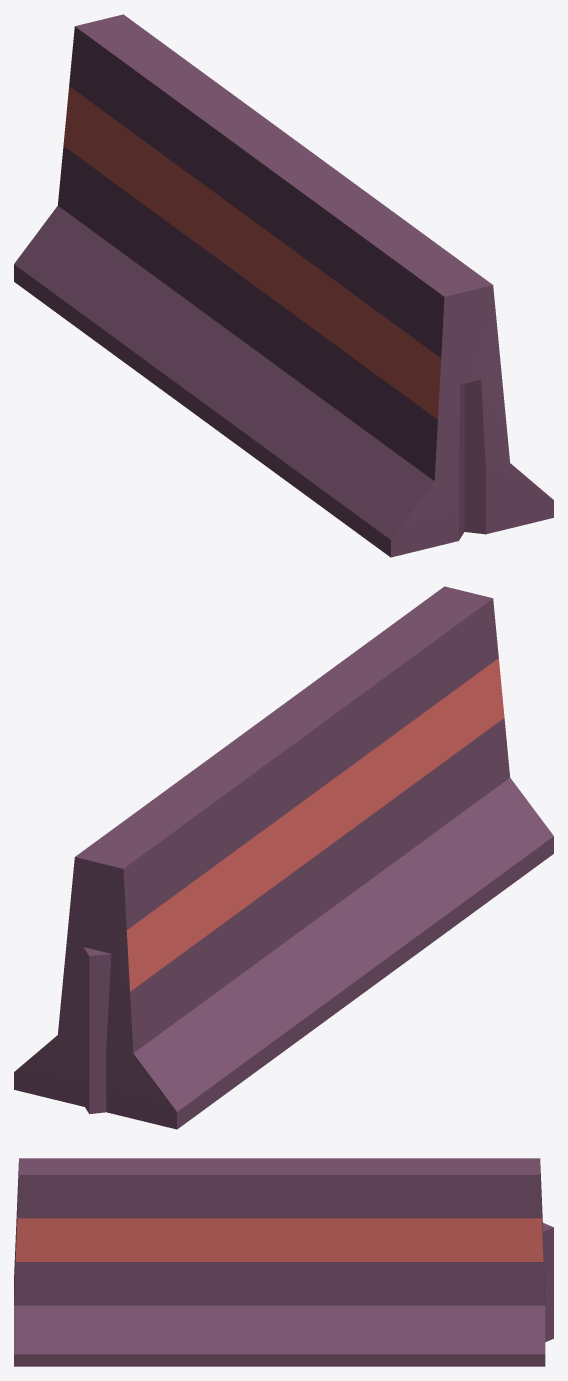
The model's file is Barrier.fbx.
3 views of the same model, one above another, from view 1: azimuth 30°, elevation 25°; view 2: azimuth 150°, elevation 25°; view 3: azimuth 270°, elevation 25° (orthographic). The views are drawn at different scales.
Parts seen in each view (by area): view 1: CementBarrier; view 2: CementBarrier; view 3: CementBarrier.
Part boxes in pixels (box(x1,y1,x2,y2)): CementBarrier: box(14, 14, 553, 557); CementBarrier: box(14, 586, 553, 1129); CementBarrier: box(14, 1158, 553, 1366).
Bounding box in the file's own units: 200 × 286 × 813.
